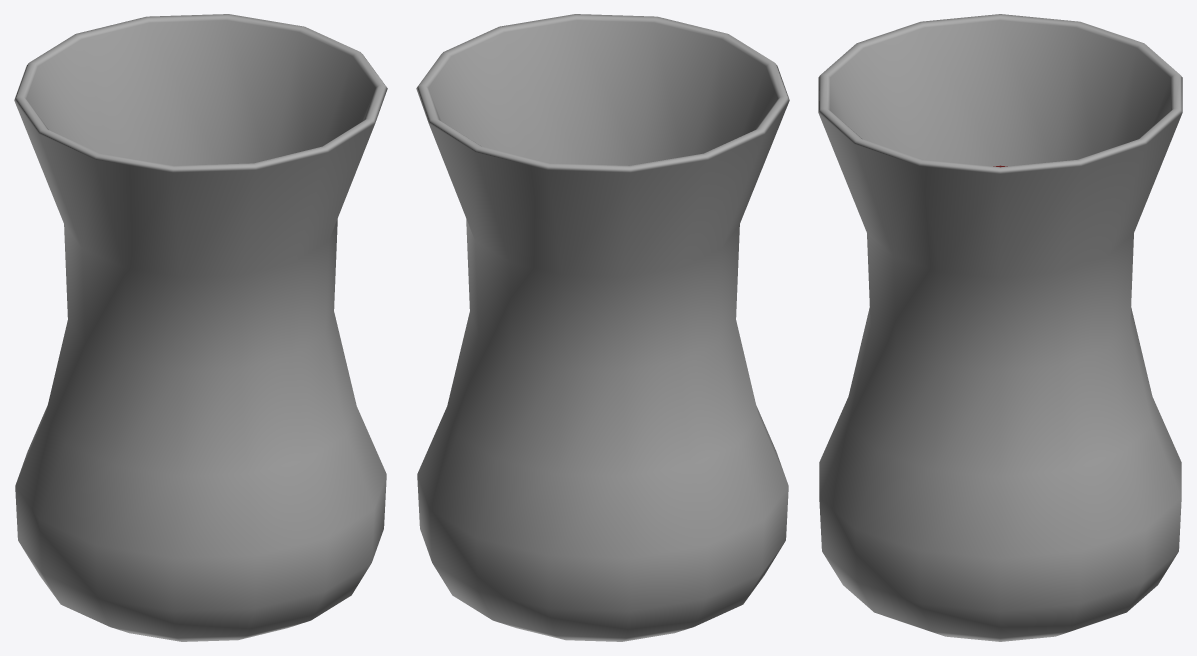
The model's file is Turkish_Tea_Cup_01.fbx.
3 views of the same model, side by side, from view 1: azimuth 30°, elevation 25°; view 2: azimuth 150°, elevation 25°; view 3: azimuth 270°, elevation 25° (orthographic).
Parts seen in each view (by area): view 1: Turkish_Tea_Cup_01; view 2: Turkish_Tea_Cup_01; view 3: Turkish_Tea_Cup_01.
Part boxes in pixels (box(x1,y1,x2,y2)): Turkish_Tea_Cup_01: box(14, 14, 387, 641); Turkish_Tea_Cup_01: box(416, 14, 789, 641); Turkish_Tea_Cup_01: box(818, 14, 1182, 641).
Size of the model in its own units: 8.32 by 12.2 by 8.11.
